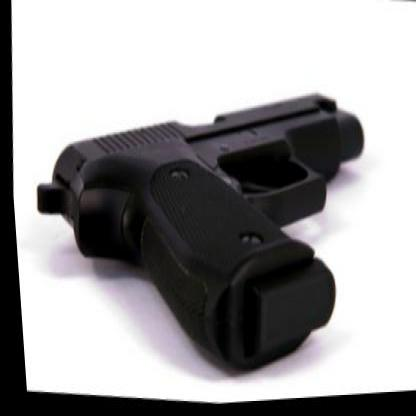pistol: (17, 52, 375, 387)
